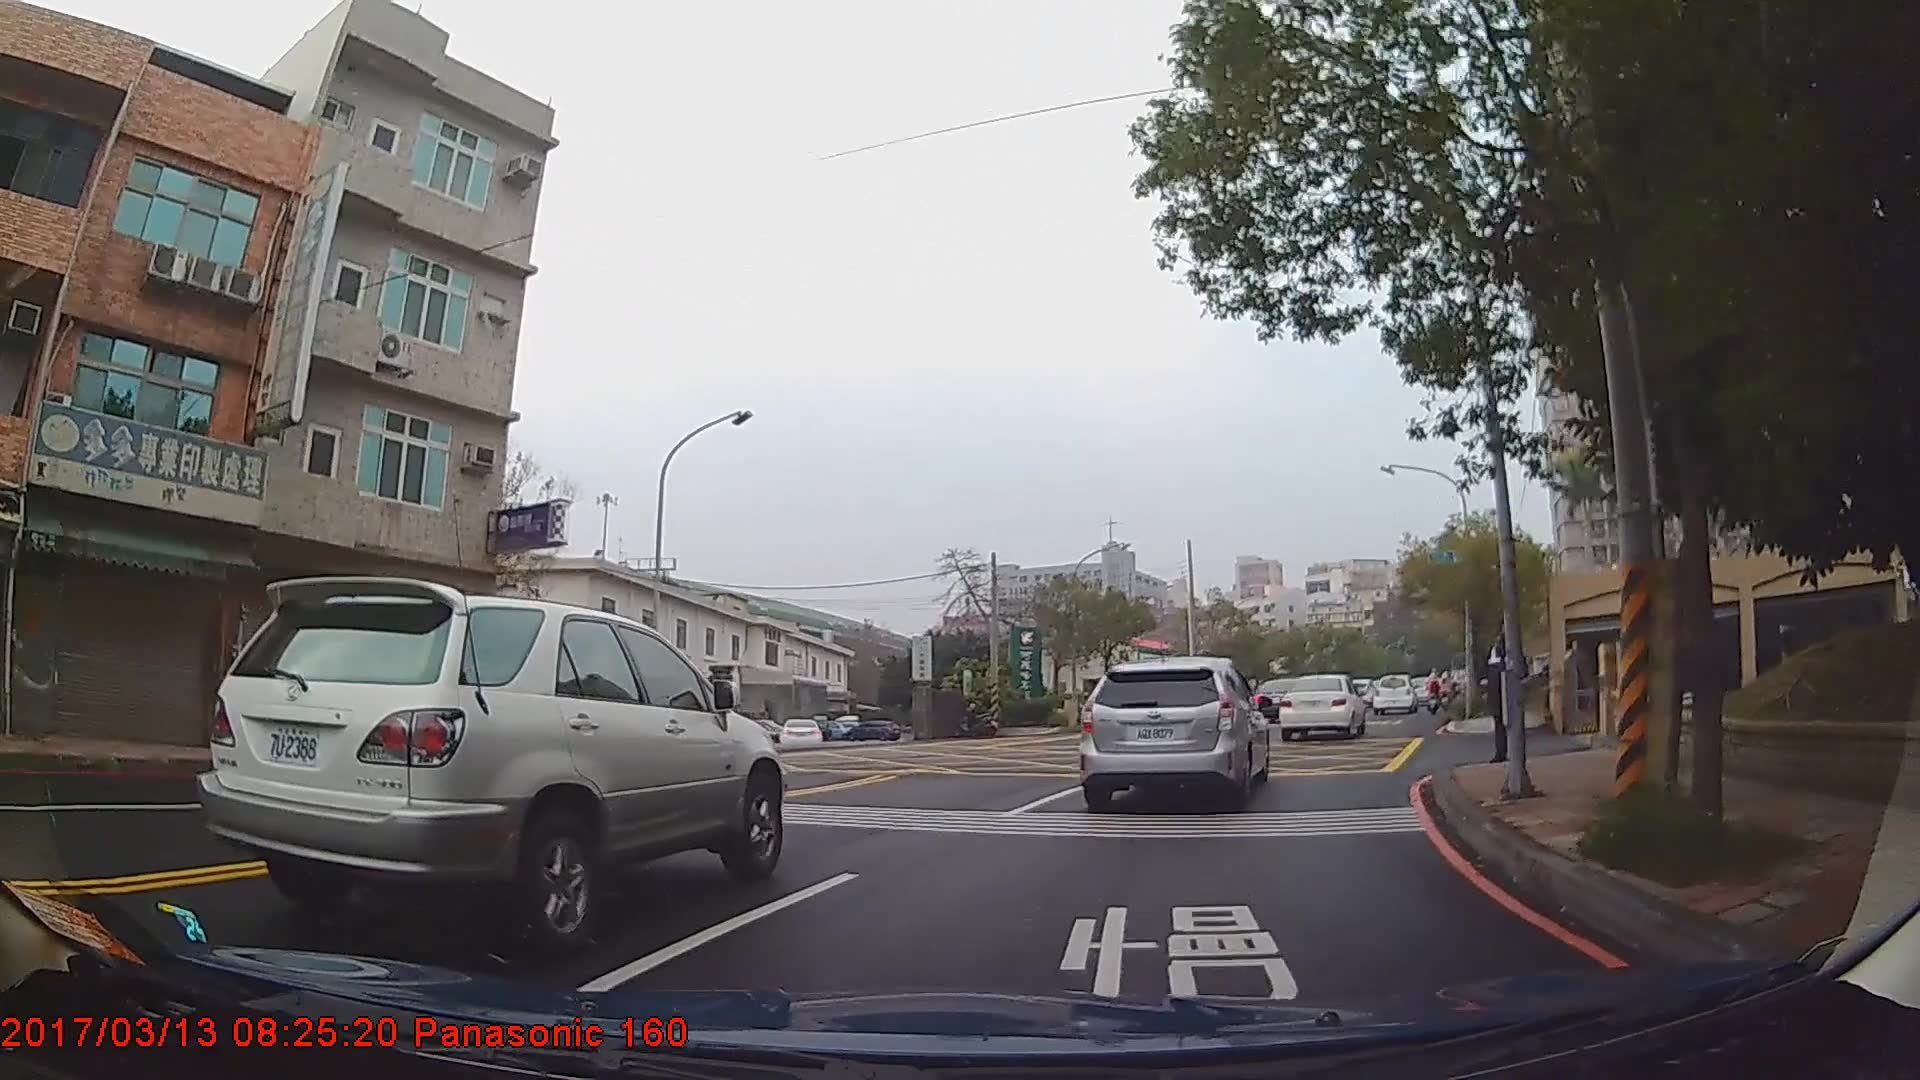pedestrian: (1487, 623, 1531, 765)
vehicle: (193, 573, 786, 947), (1077, 653, 1272, 820), (1278, 674, 1368, 739), (1370, 673, 1419, 716), (842, 719, 903, 741), (779, 718, 824, 747)
